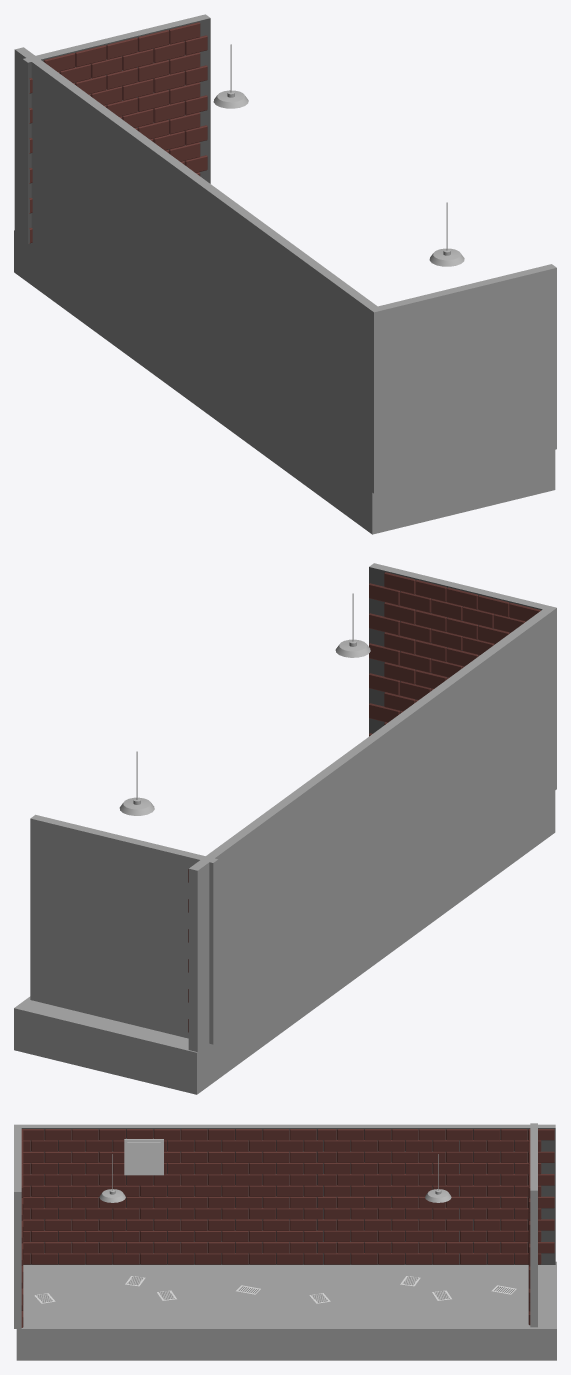
File: warehouse_1.fbx
3 views of the same model, one above another, from view 1: azimuth 30°, elevation 25°; view 2: azimuth 150°, elevation 25°; view 3: azimuth 270°, elevation 25° (orthographic). The views are drawn at different scales.
Parts seen in each view (by area): view 1: Плоскость.002, Плоскость.001, Плоскость.004, Плоскость, Куб.004, Плоскость.003, Плоскость.010, Цилиндр.001; view 2: Плоскость.002, Плоскость.010, Плоскость.004, Плоскость.003, Куб.002, Плоскость, Плоскость.001, Цилиндр.001; view 3: Куб.010, Куб.003, Плоскость, Плоскость.003, Плоскость.004, Плоскость.002, Плоскость.010, Плоскость.001, Куб.014, Цилиндр.001, Куб.002, Куб.004 (+1 smaller).
Part boxes in pixels (x1,y1,x2,y2): Плоскость.002: [170, 161, 380, 491]; Плоскость.001: [372, 264, 556, 493]; Плоскость.004: [14, 47, 178, 344]; Плоскость: [165, 341, 555, 534]; Куб.004: [29, 22, 207, 243]; Плоскость.003: [14, 230, 165, 382]; Плоскость.010: [22, 14, 210, 243]; Цилиндр.001: [213, 44, 464, 266]; Плоскость.002: [345, 607, 555, 937]; Плоскость.010: [30, 814, 218, 1044]; Плоскость.004: [188, 754, 353, 1052]; Плоскость.003: [14, 942, 348, 1094]; Куб.002: [369, 572, 540, 736]; Плоскость: [348, 791, 555, 983]; Плоскость.001: [369, 563, 556, 789]; Цилиндр.001: [119, 593, 370, 815]; Куб.010: [21, 1129, 322, 1264]; Куб.003: [317, 1129, 554, 1264]; Плоскость: [16, 1265, 328, 1360]; Плоскость.003: [328, 1261, 556, 1360]; Плоскость.004: [321, 1124, 555, 1264]; Плоскость.002: [16, 1124, 320, 1264]; Плоскость.010: [530, 1123, 537, 1327]; Плоскость.001: [14, 1124, 21, 1328]; Куб.014: [127, 1142, 160, 1172]; Цилиндр.001: [99, 1154, 451, 1202]; Куб.002: [21, 1130, 23, 1327]; Куб.004: [528, 1130, 530, 1325].
Size of the model in its own units: 521 by 671 by 1739.
